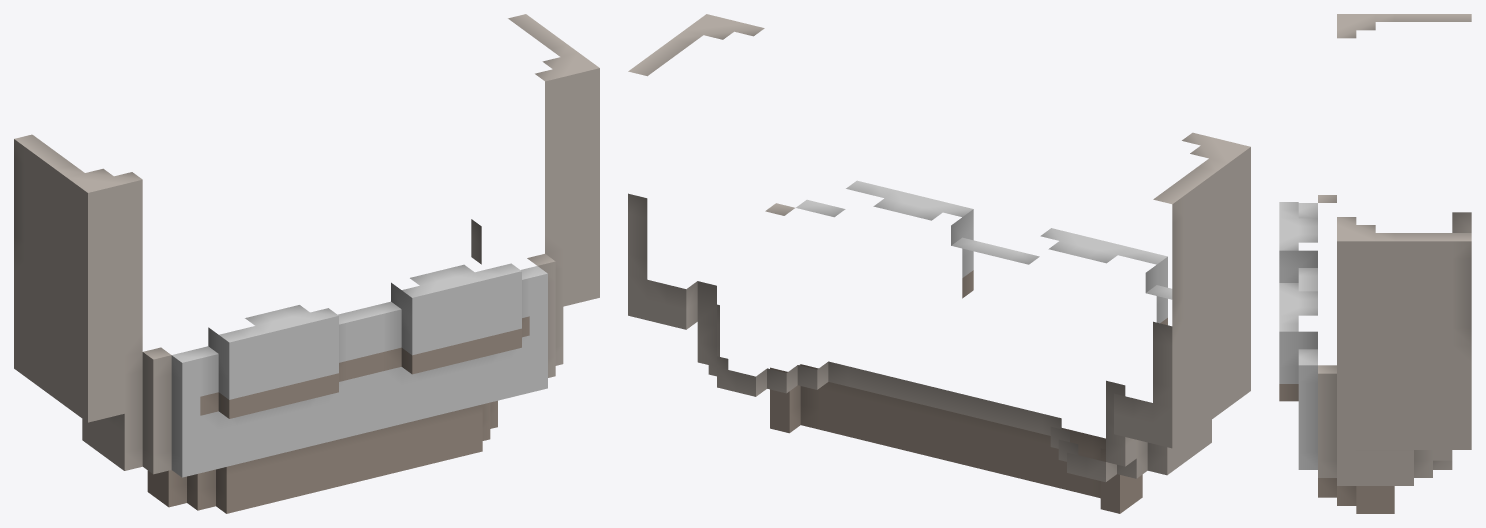
The model's file is beard_short_trimmed.glb.
3 renders of one model, left to right at view 1: azimuth 30°, elevation 25°; view 2: azimuth 150°, elevation 25°; view 3: azimuth 270°, elevation 25°, orthographic. The views are drawn at different scales.
Visible parts, largest first — view 1: VoxelVisual; view 2: VoxelVisual; view 3: VoxelVisual.
Boxes of the visible parts, left/top/right/bottom form: VoxelVisual: left=14, top=14, right=599, bottom=513; VoxelVisual: left=628, top=14, right=1250, bottom=513; VoxelVisual: left=1279, top=14, right=1471, bottom=513.
Size of what is drawn, in the model's own units: 1.75 by 1.12 by 0.625.
